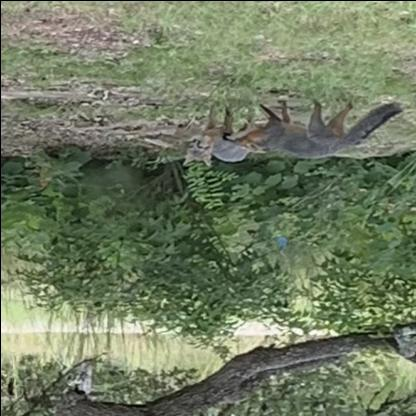zorro: (218, 90, 404, 158), (176, 104, 252, 170)
